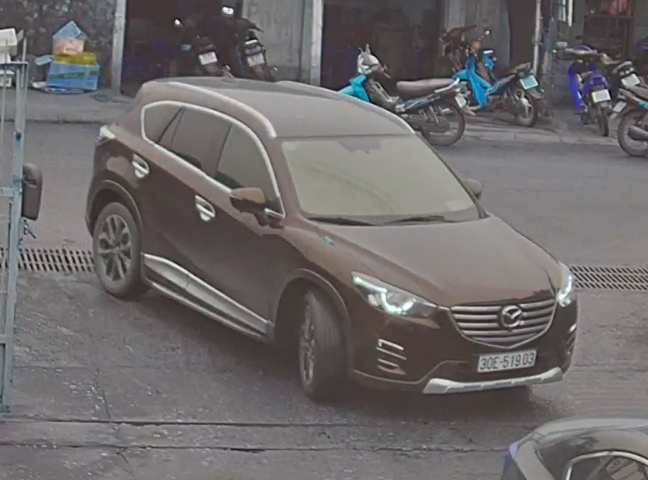vehicle plate: (472, 350, 543, 373)
